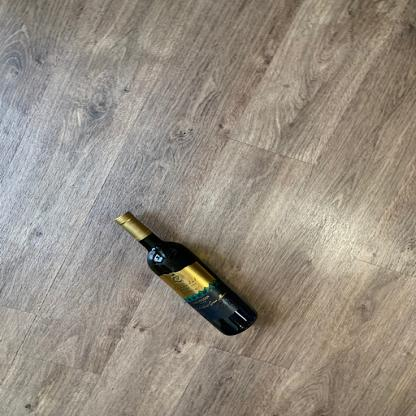trash: (112, 209, 262, 336)
